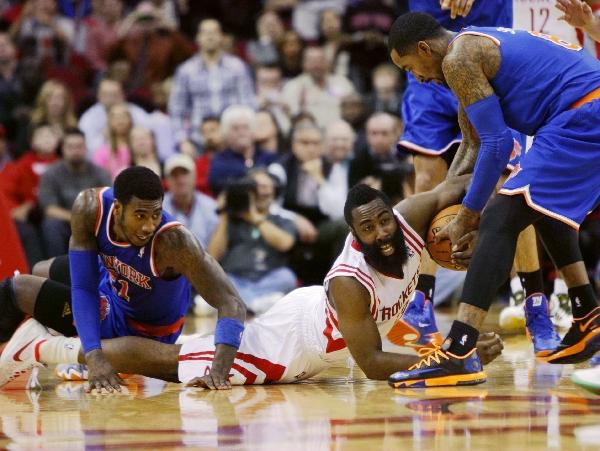10+: (1, 7, 600, 390)
down: (2, 164, 496, 390), (16, 172, 242, 382)
